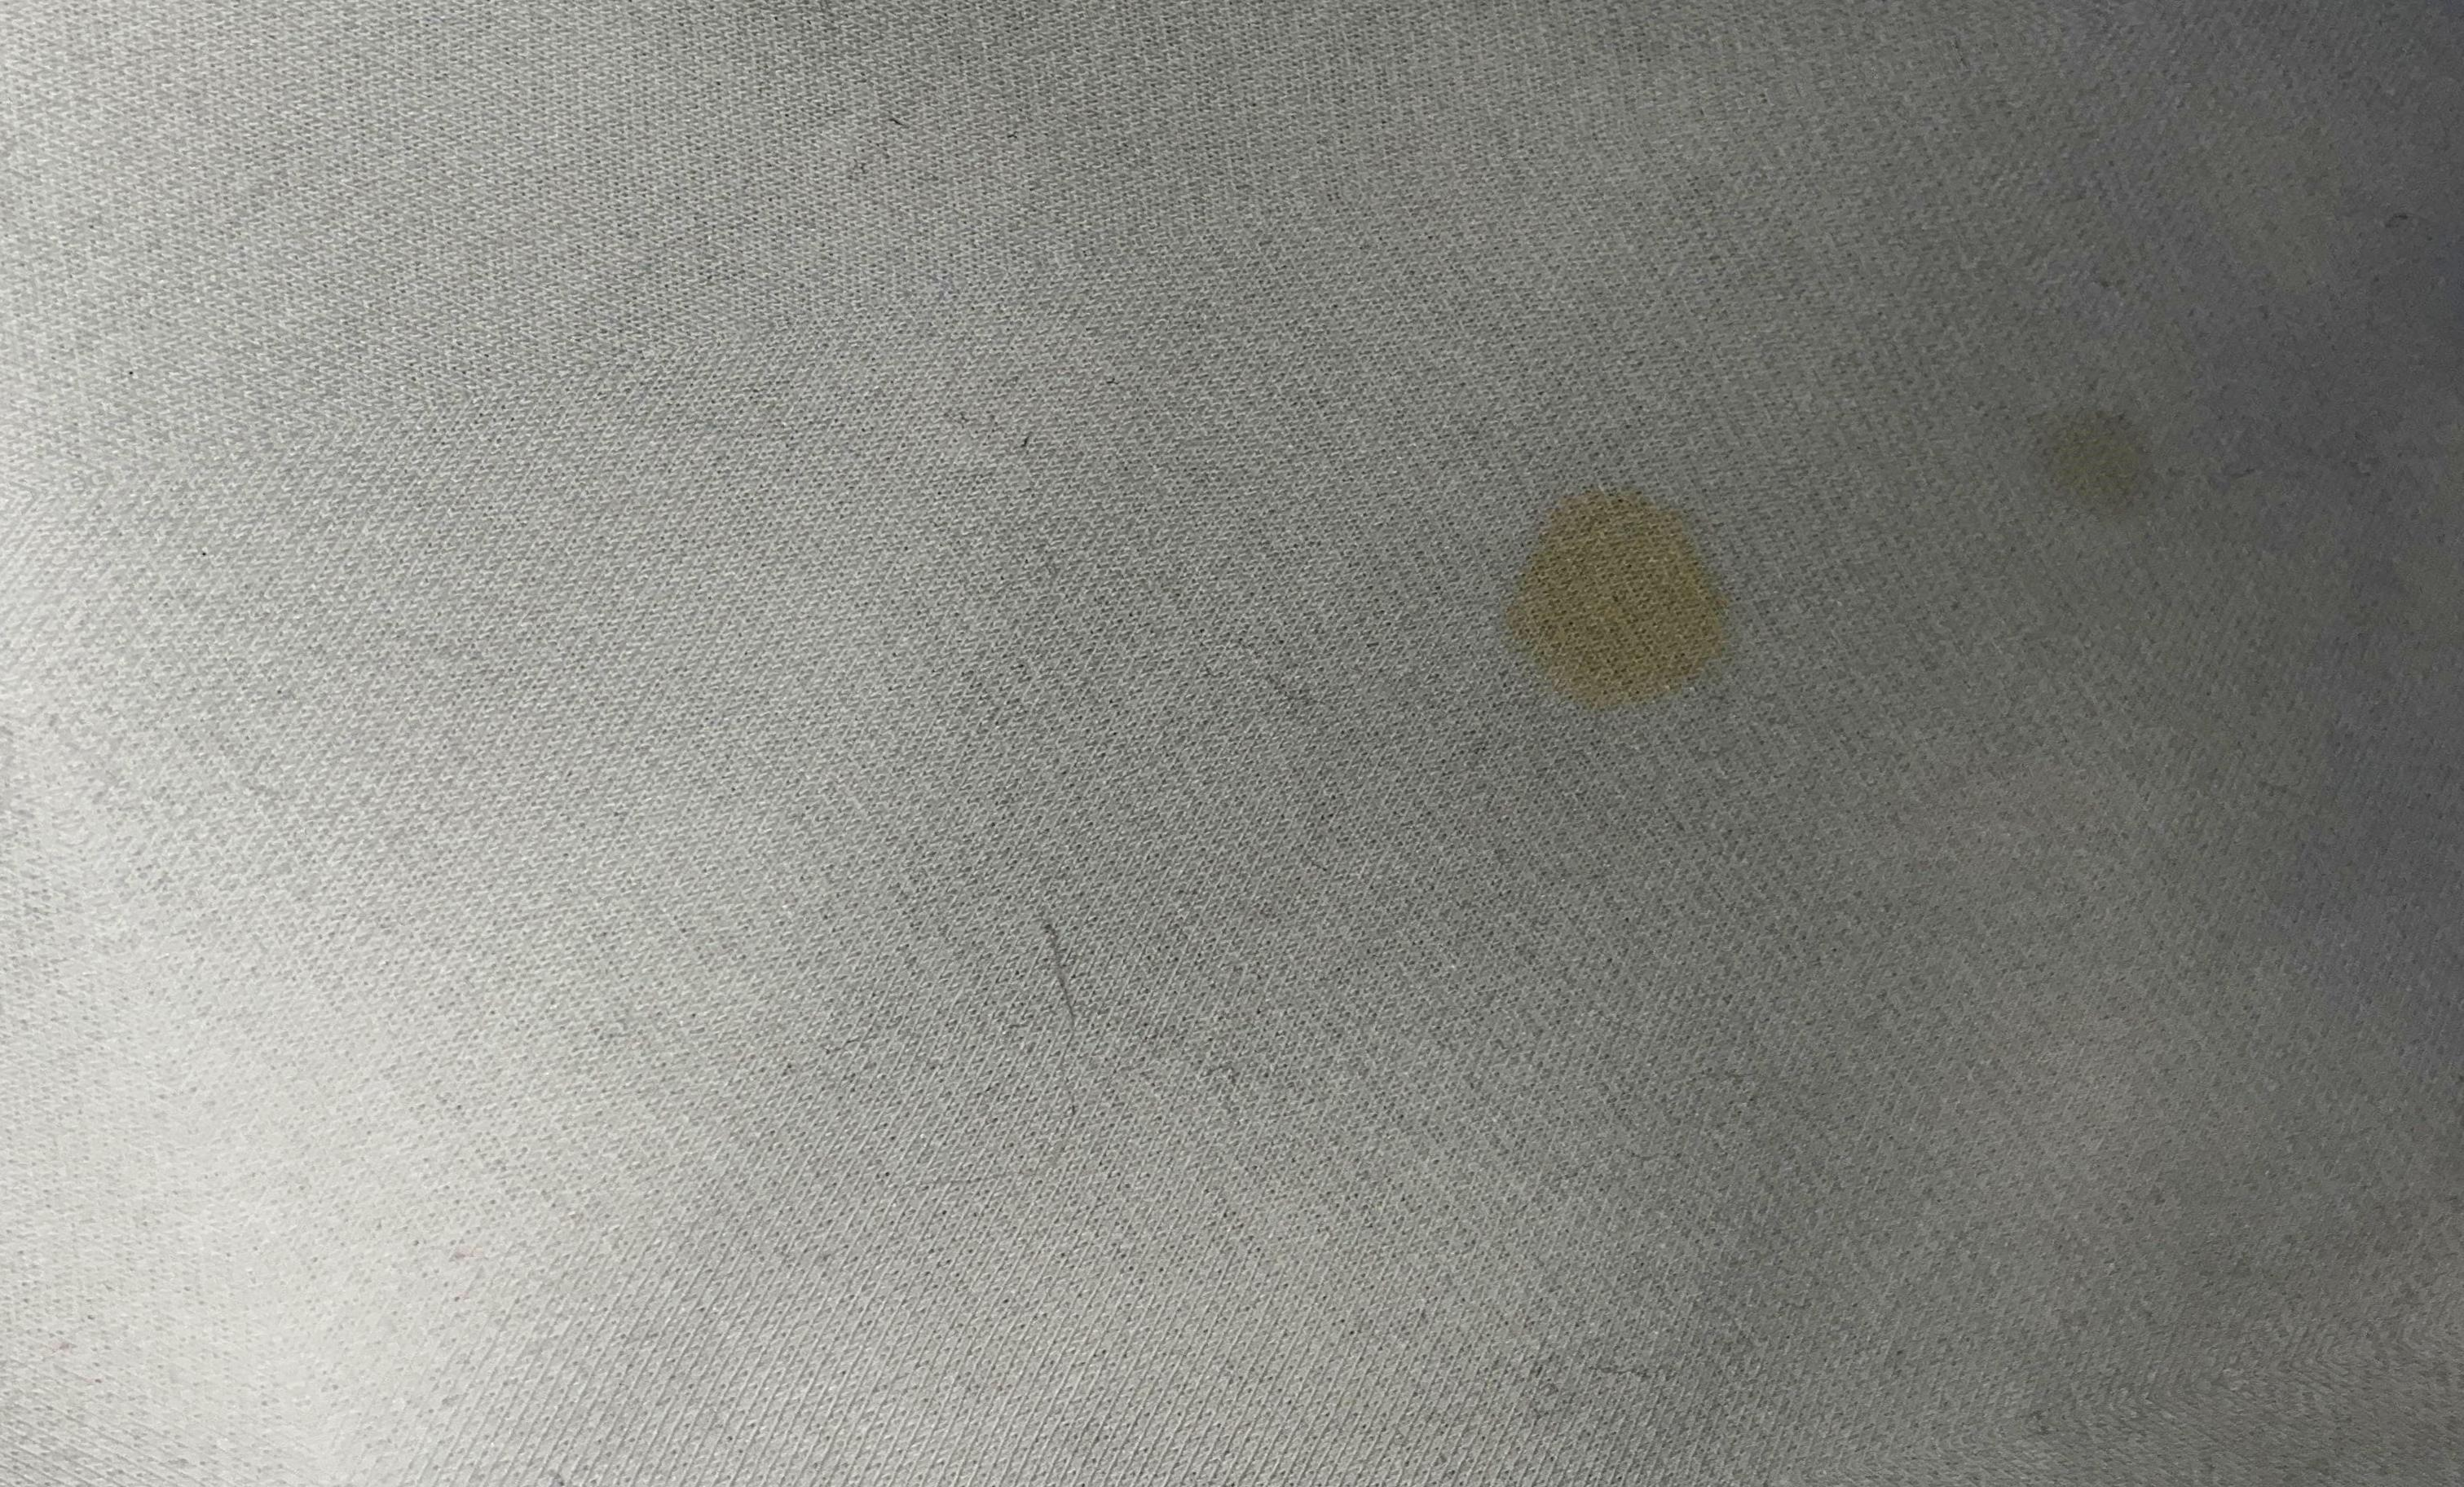stain: (1487, 473, 1771, 730), (2026, 385, 2202, 558)
